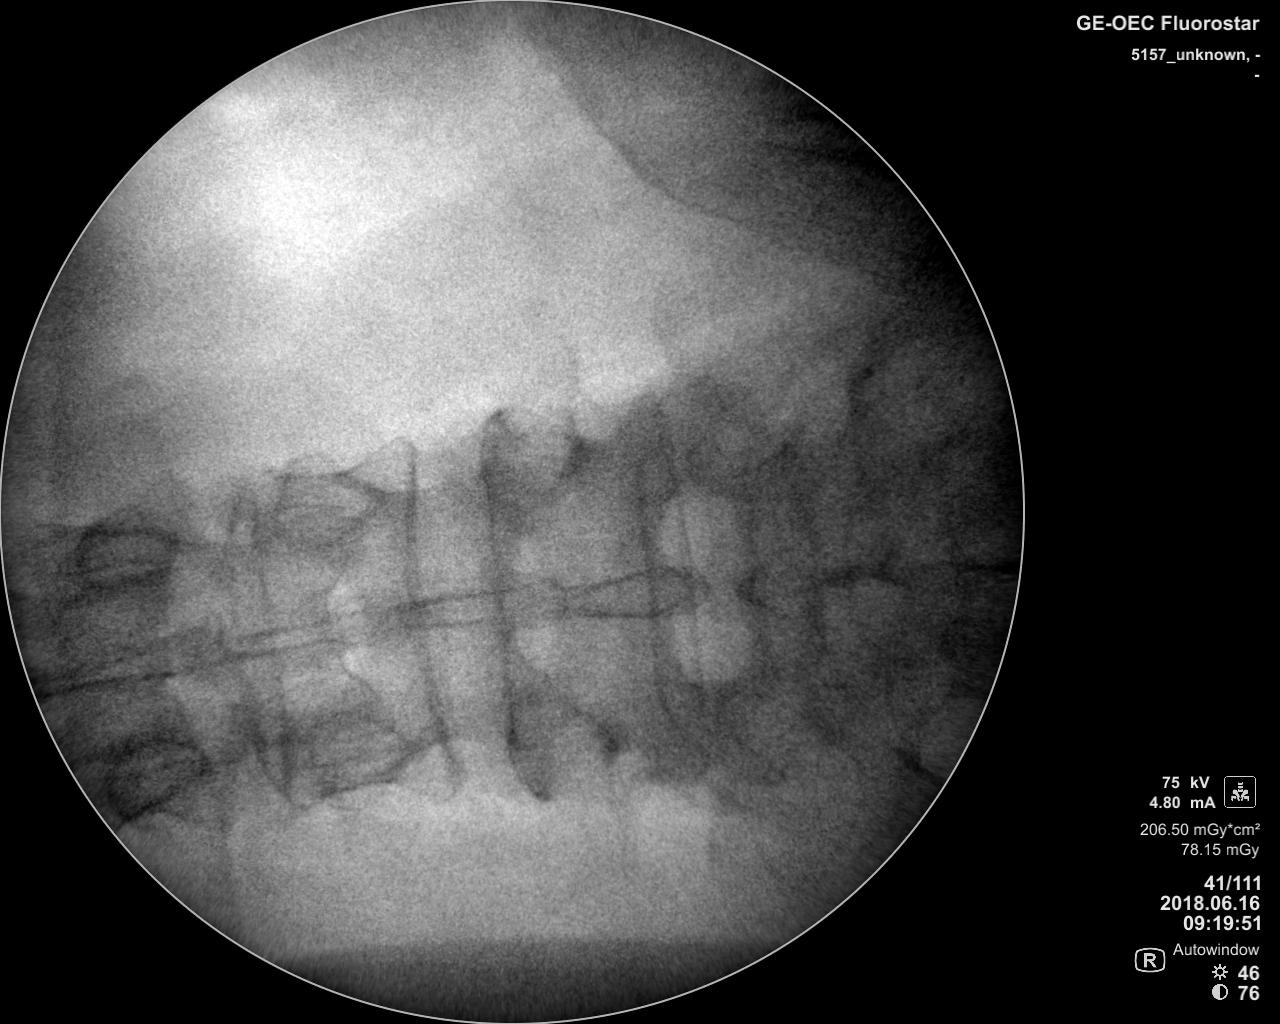eyes: (266, 453, 381, 546), (507, 699, 619, 788), (290, 709, 408, 792), (484, 400, 585, 495), (96, 728, 208, 813), (70, 515, 181, 596)
line: (621, 408, 708, 754), (392, 426, 470, 789), (471, 400, 540, 793), (219, 476, 299, 814)
nose: (47, 625, 207, 701), (382, 573, 576, 629), (219, 599, 380, 661), (574, 559, 719, 628)
